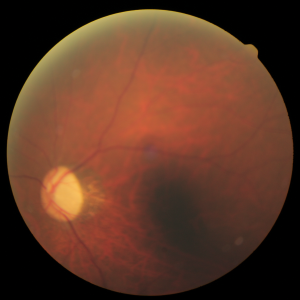glaucoma: (33, 127, 229, 238)
